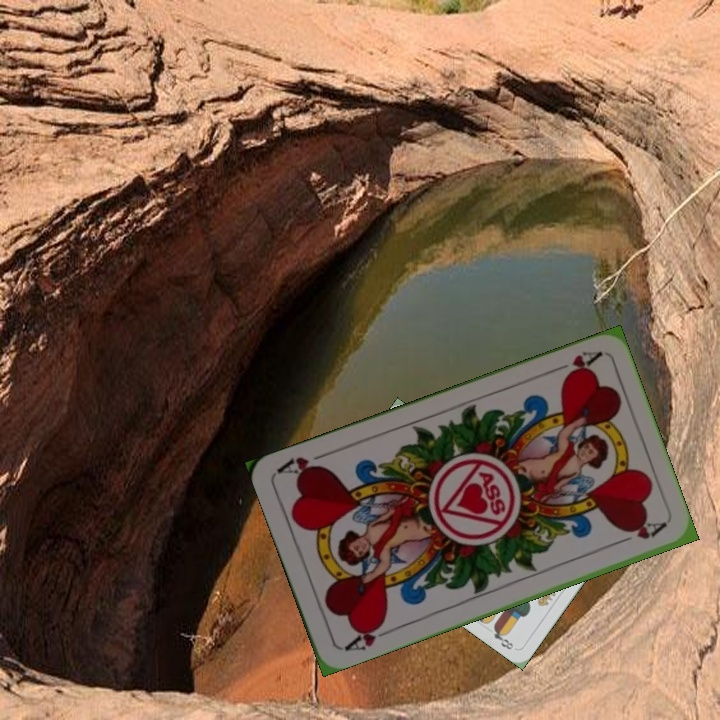HA: (546, 346, 604, 382), (340, 617, 396, 654)
